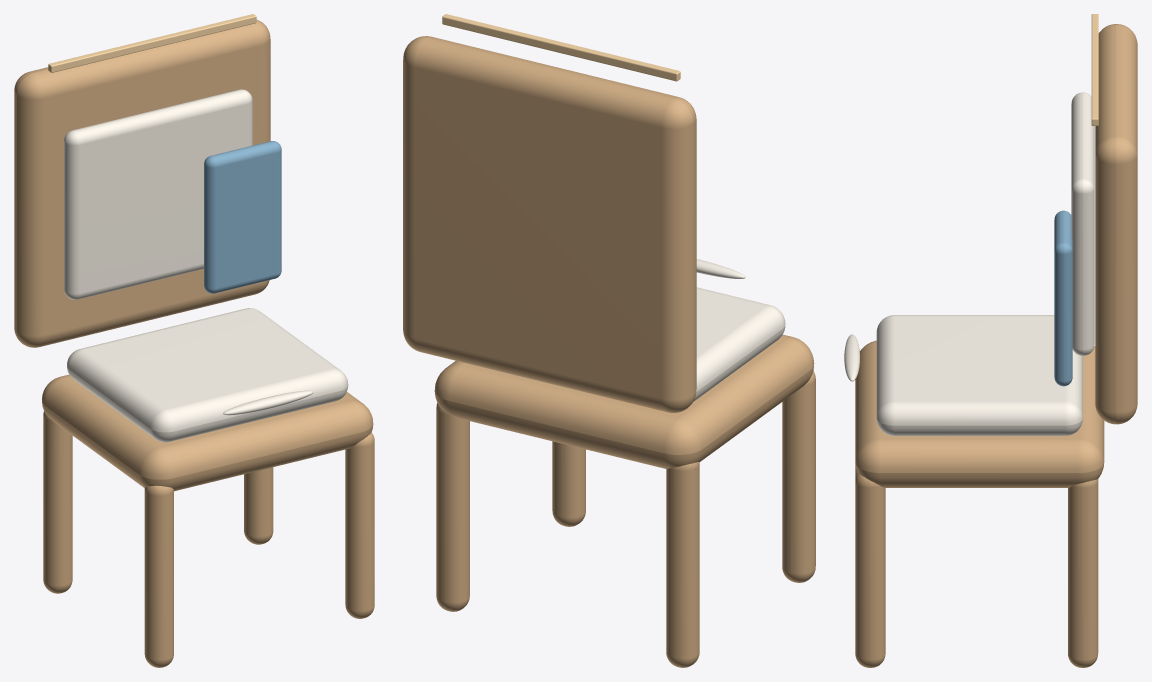
Rendered from 星湾旅店软垫木椅_v373.fbx.
3 renders of one model, left to right at view 1: azimuth 30°, elevation 25°; view 2: azimuth 150°, elevation 25°; view 3: azimuth 270°, elevation 25°, orthographic. The views are drawn at different scales.
Visible parts, largest first — view 1: 旅店软垫木椅_v373_木质背框, 旅店软垫木椅_v373_奶油软靠垫, 旅店软垫木椅_v373_奶油厚坐垫, 旅店软垫木椅_v373_木质坐板, 旅店软垫木椅_v373_海蓝搭布, 旅店软垫木椅_v373_细圆木腿, 旅店软垫木椅_v373_细圆木腿.002, 旅店软垫木椅_v373_细圆木腿.001, 旅店软垫木椅_v373_椅背清漆上沿, 旅店软垫木椅_v373_细圆木腿.003, 旅店软垫木椅_v373_椅垫前缘软包; view 2: 旅店软垫木椅_v373_木质背框, 旅店软垫木椅_v373_木质坐板, 旅店软垫木椅_v373_细圆木腿.001, 旅店软垫木椅_v373_细圆木腿.003, 旅店软垫木椅_v373_细圆木腿, 旅店软垫木椅_v373_奶油厚坐垫, 旅店软垫木椅_v373_椅背清漆上沿, 旅店软垫木椅_v373_细圆木腿.002; view 3: 旅店软垫木椅_v373_奶油厚坐垫, 旅店软垫木椅_v373_木质背框, 旅店软垫木椅_v373_木质坐板, 旅店软垫木椅_v373_奶油软靠垫, 旅店软垫木椅_v373_细圆木腿.002, 旅店软垫木椅_v373_细圆木腿.003, 旅店软垫木椅_v373_海蓝搭布, 旅店软垫木椅_v373_椅背清漆上沿, 旅店软垫木椅_v373_椅垫前缘软包.
Boxes of the visible parts, box(x1,y1,x2,y2) form: 旅店软垫木椅_v373_木质背框: box(14, 19, 270, 347); 旅店软垫木椅_v373_奶油软靠垫: box(64, 89, 252, 299); 旅店软垫木椅_v373_奶油厚坐垫: box(67, 308, 348, 442); 旅店软垫木椅_v373_木质坐板: box(42, 374, 373, 491); 旅店软垫木椅_v373_海蓝搭布: box(204, 141, 281, 293); 旅店软垫木椅_v373_细圆木腿: box(144, 485, 173, 667); 旅店软垫木椅_v373_细圆木腿.002: box(345, 432, 374, 618); 旅店软垫木椅_v373_细圆木腿.001: box(43, 411, 72, 593); 旅店软垫木椅_v373_椅背清漆上沿: box(48, 14, 256, 72); 旅店软垫木椅_v373_细圆木腿.003: box(244, 467, 273, 544); 旅店软垫木椅_v373_椅垫前缘软包: box(223, 390, 313, 415); 旅店软垫木椅_v373_木质背框: box(403, 36, 696, 412); 旅店软垫木椅_v373_木质坐板: box(434, 334, 814, 468); 旅店软垫木椅_v373_细圆木腿.001: box(666, 462, 699, 667); 旅店软垫木椅_v373_细圆木腿.003: box(436, 403, 469, 611); 旅店软垫木椅_v373_细圆木腿: box(782, 371, 815, 582); 旅店软垫木椅_v373_奶油厚坐垫: box(693, 287, 785, 401); 旅店软垫木椅_v373_椅背清漆上沿: box(442, 14, 680, 81); 旅店软垫木椅_v373_细圆木腿.002: box(552, 441, 585, 526); 旅店软垫木椅_v373_奶油厚坐垫: box(876, 315, 1082, 435); 旅店软垫木椅_v373_木质背框: box(1095, 24, 1137, 424); 旅店软垫木椅_v373_木质坐板: box(855, 340, 1104, 487); 旅店软垫木椅_v373_奶油软靠垫: box(1071, 92, 1094, 355); 旅店软垫木椅_v373_细圆木腿.002: box(855, 473, 885, 667); 旅店软垫木椅_v373_细圆木腿.003: box(1068, 479, 1098, 667); 旅店软垫木椅_v373_海蓝搭布: box(1054, 210, 1072, 386); 旅店软垫木椅_v373_椅背清漆上沿: box(1091, 14, 1098, 125); 旅店软垫木椅_v373_椅垫前缘软包: box(844, 334, 859, 381).
Size of the model in its own units: 50 by 99.7 by 48.3.
